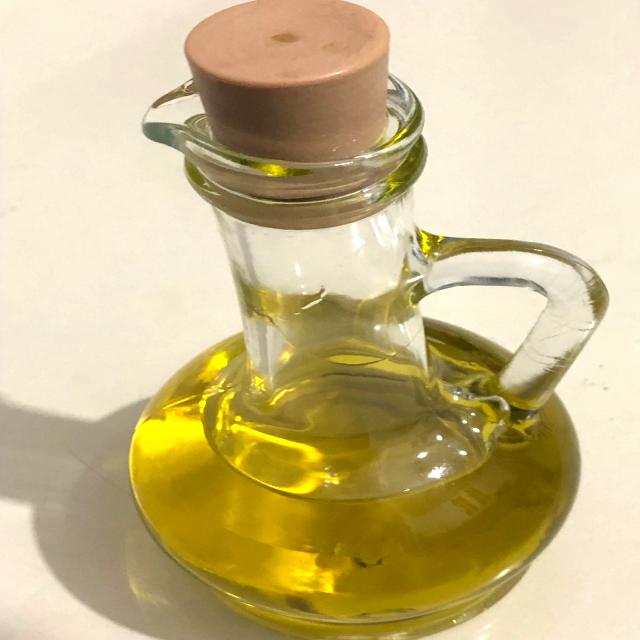olive oil: (122, 3, 614, 640)
